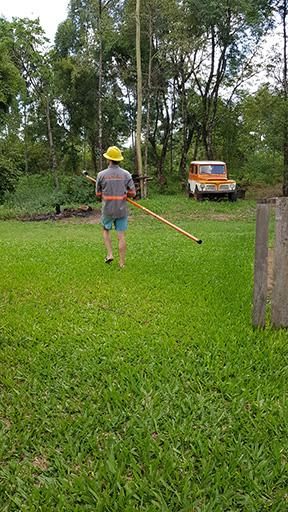Vara_Manobra: (85, 175, 203, 244)
